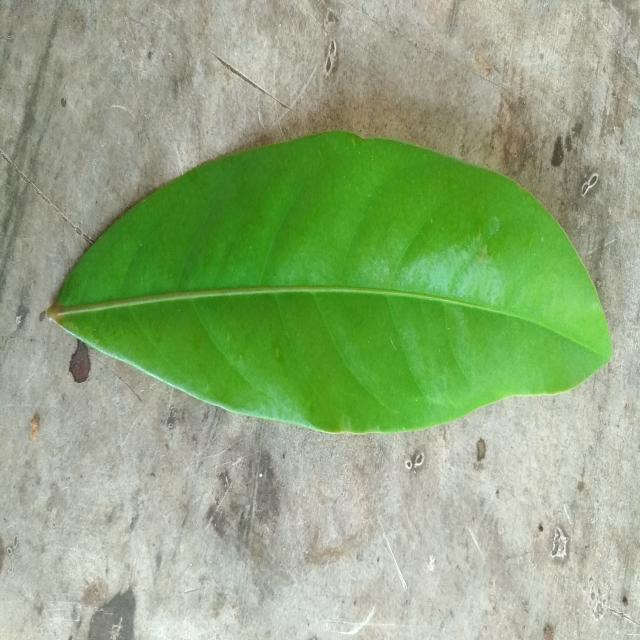seethaashoka: (48, 131, 612, 433)
